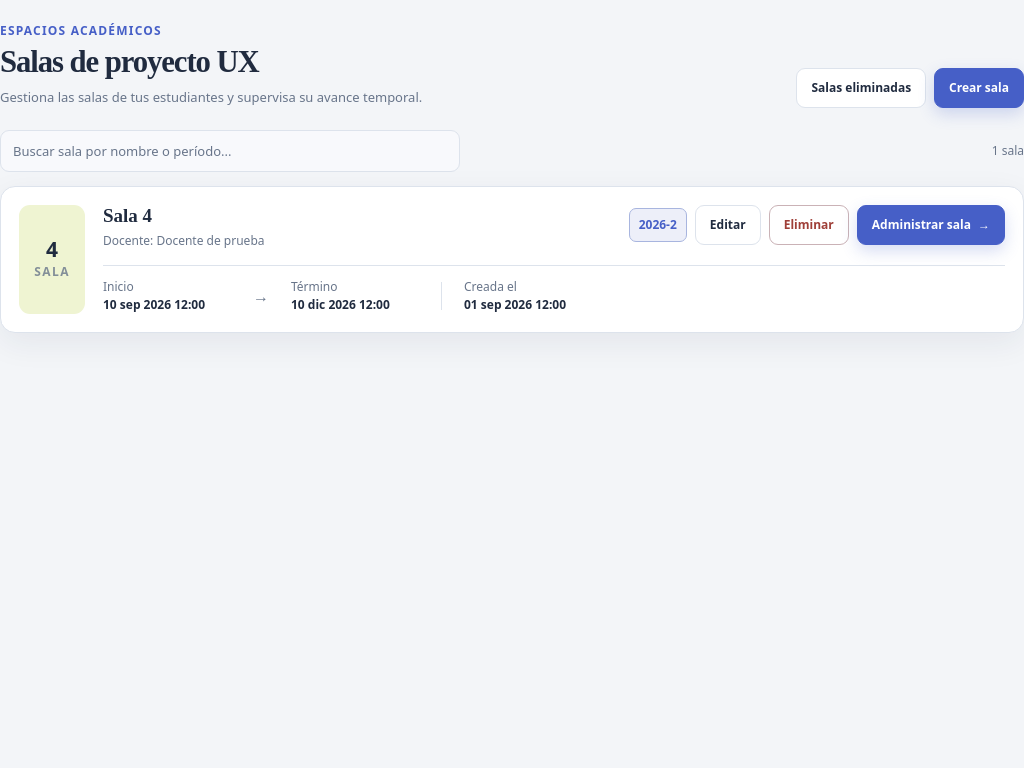
Test: ProfesorSalasPage — edición de sala › precarga y guarda un nuevo rango de fechas para una sala existente
Click the button with aria-label "Editar sala Sala 4" at (728, 225), box [695,205,761,245]
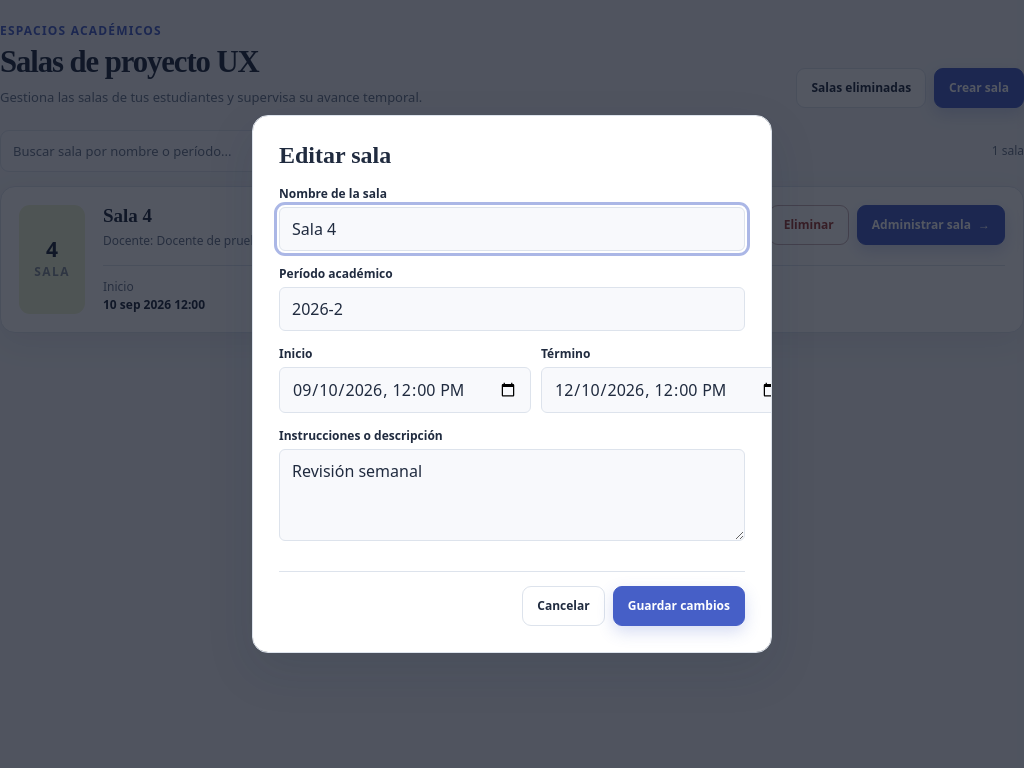
Check: the heading "Editar sala" is shown, box [279,142,391,168]
Check: the field labelled "Nombre de la sala" holds "Sala 4", box [279,207,745,251]
Check: the field labelled "Inicio" is not empty
Replace the text in the field labelled "Inicio" with "2026-09-15T10:00" at (405, 390), box [279,367,531,413]
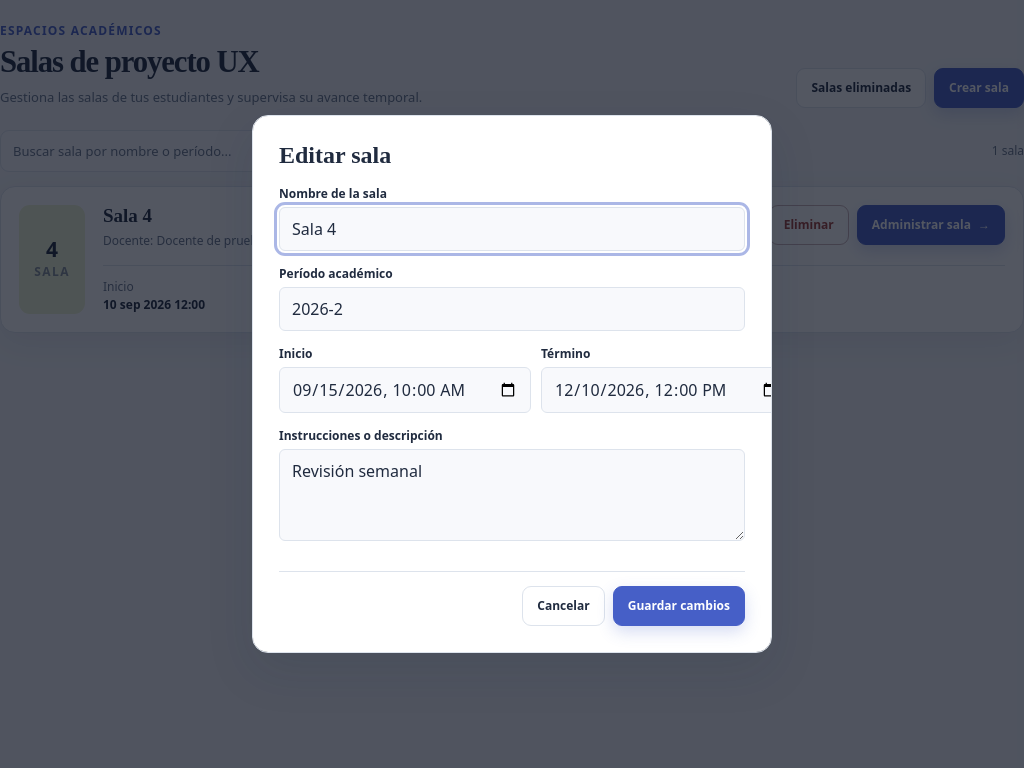
Replace the text in the field labelled "Término" with "2026-12-15T18:00" at (667, 390), box [541,367,793,413]
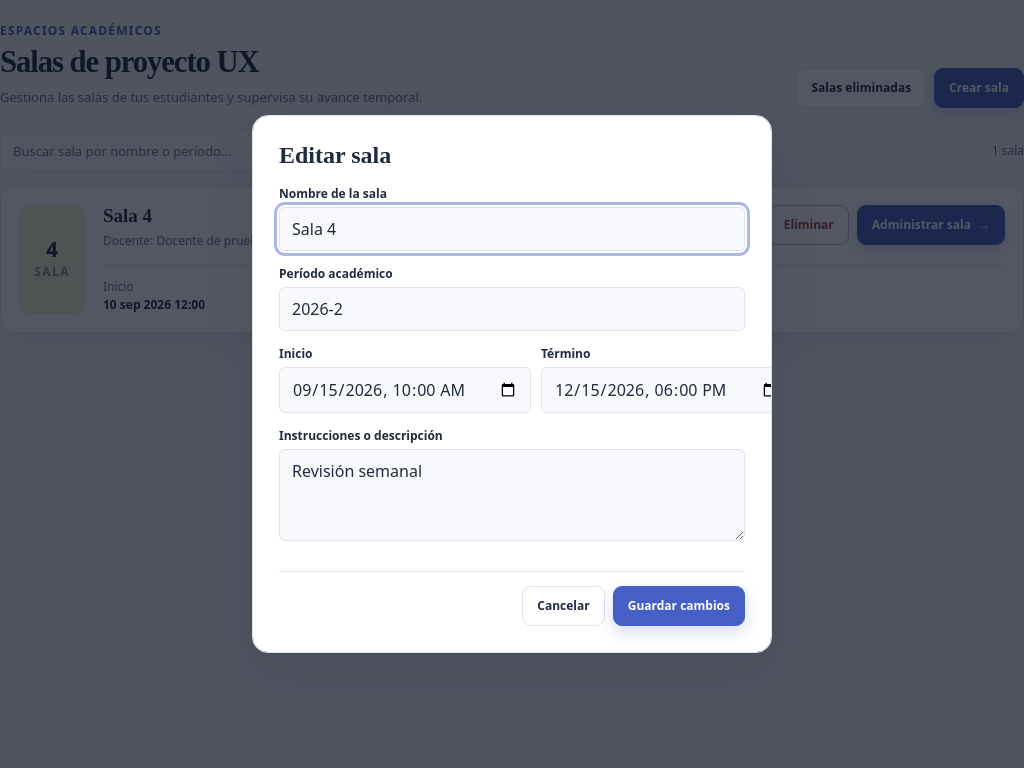
Click the button "Guardar cambios" at (679, 606), box [613,586,745,626]
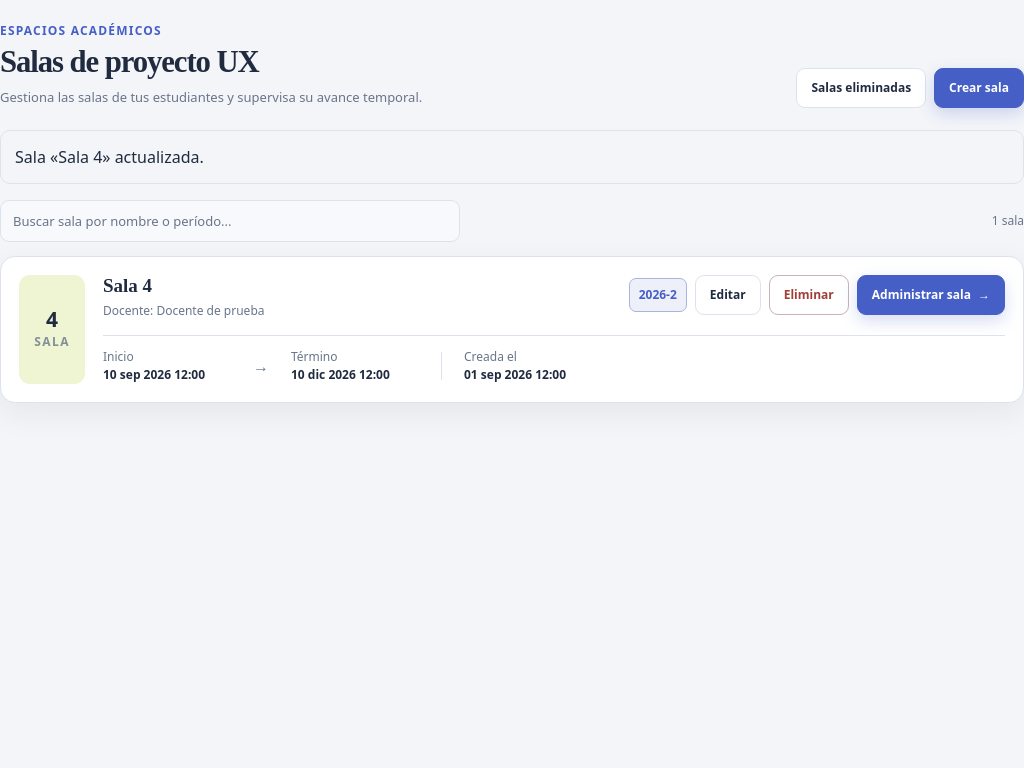
Check: the message reads "Sala «Sala 4» actualizada.", box [15,146,204,168]
Check: the dialog is gone
